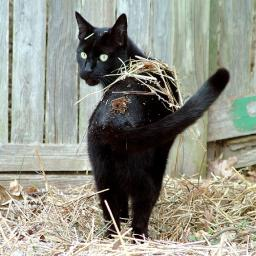catnose: (84, 67, 94, 76)
